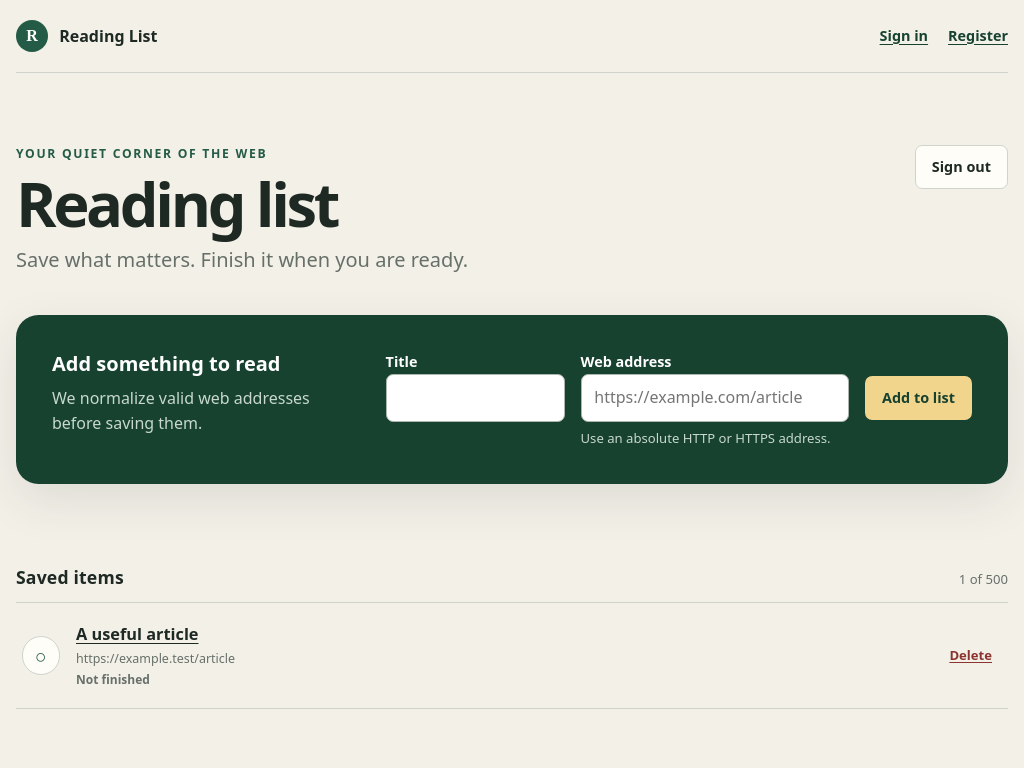
Scenario: reading-list mutations › gives the delete dialog safe initial focus, restores it on cancel, and focuses the list after success
Click the button with aria-label "Delete A useful article" at (971, 656), box [939,636,1002,675]
(page scrolled)
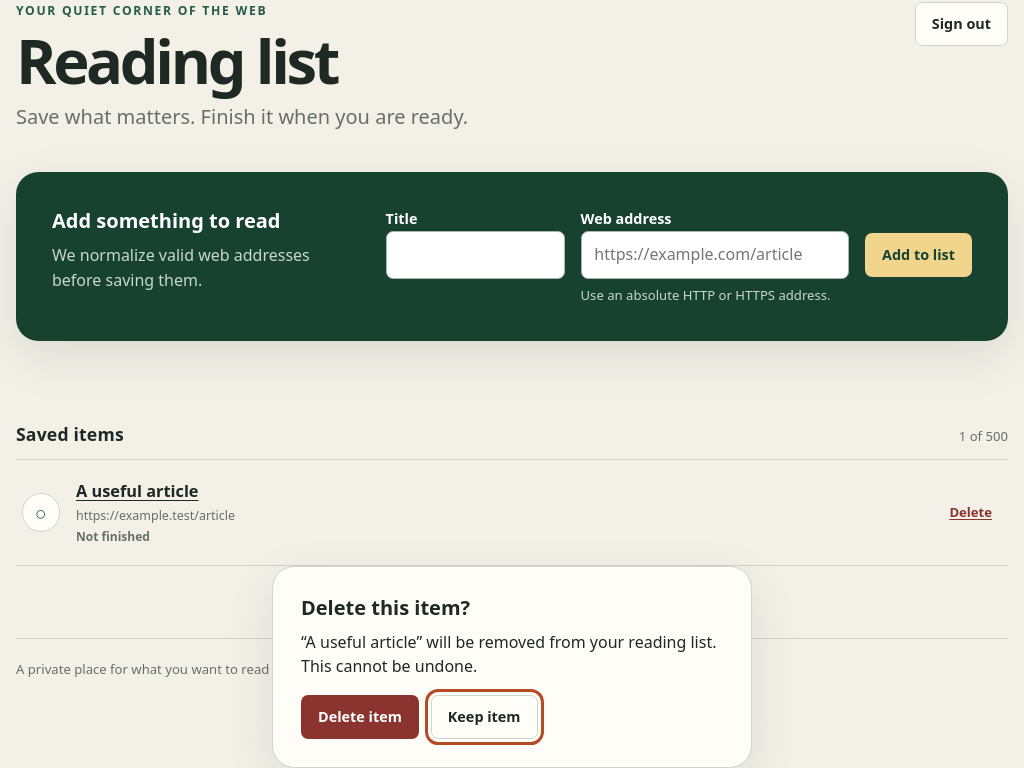
Now the heading "Delete this item?" is shown, box [301,594,470,621]
Click the button "Keep item" at (484, 717), box [431,695,538,739]
(page scrolled)
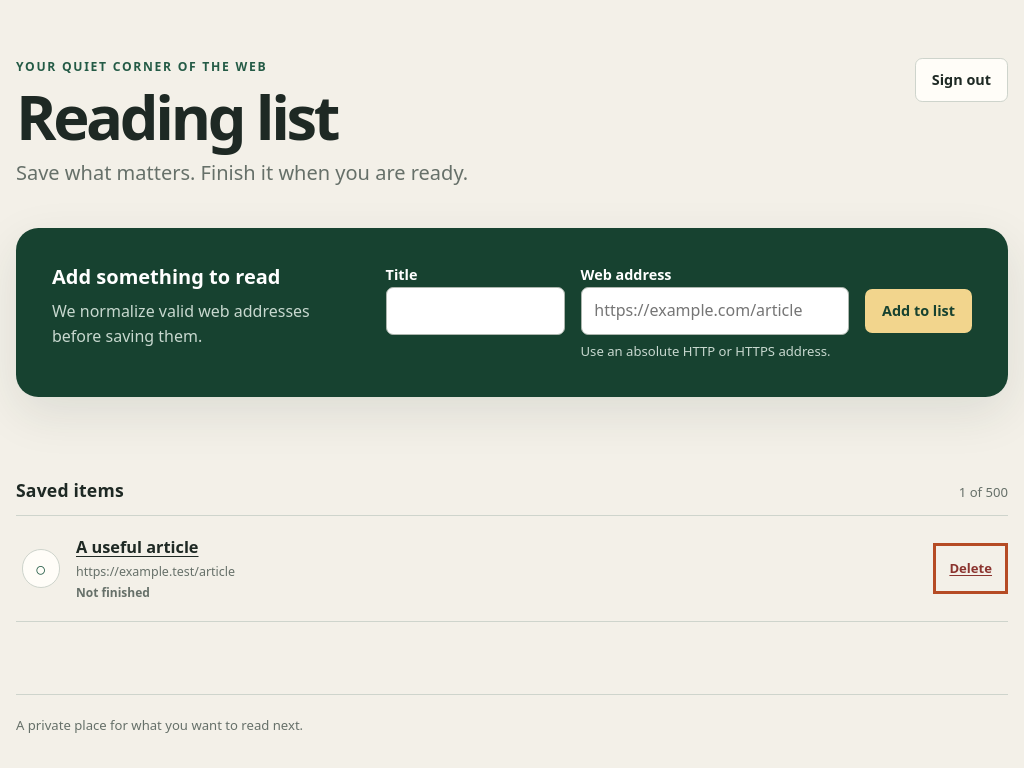
Click the button with aria-label "Delete A useful article" at (971, 568), box [939,549,1002,588]
(page scrolled)
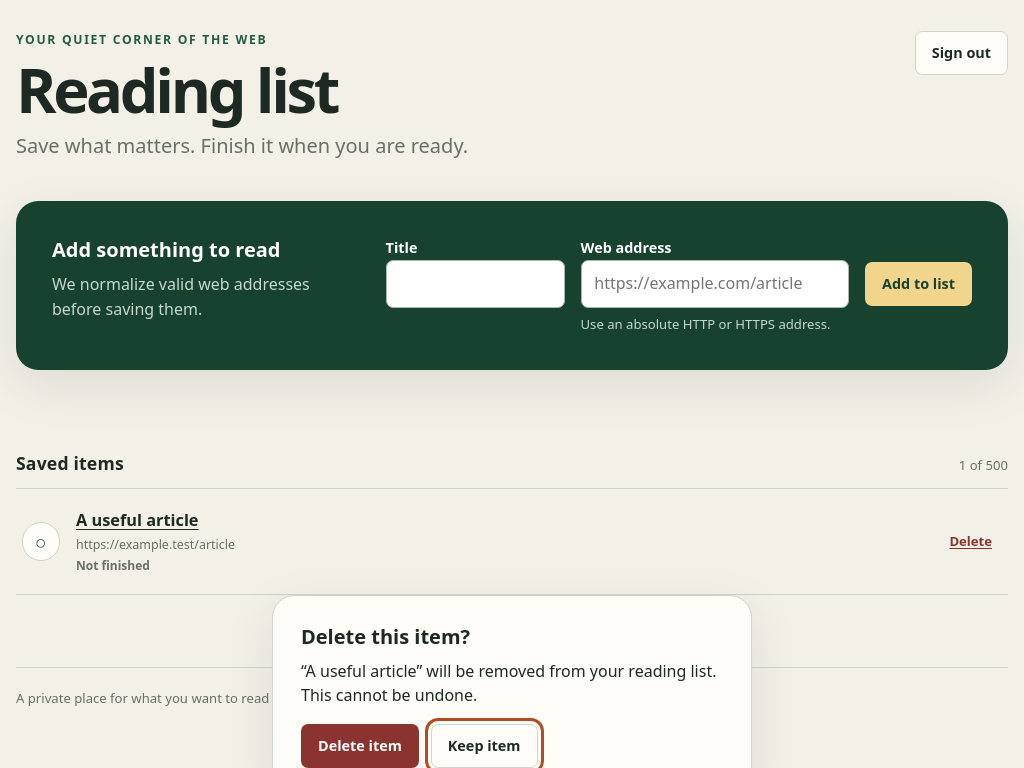
Click the button "Delete item" at (360, 746), box [301,724,419,767]
(page scrolled)
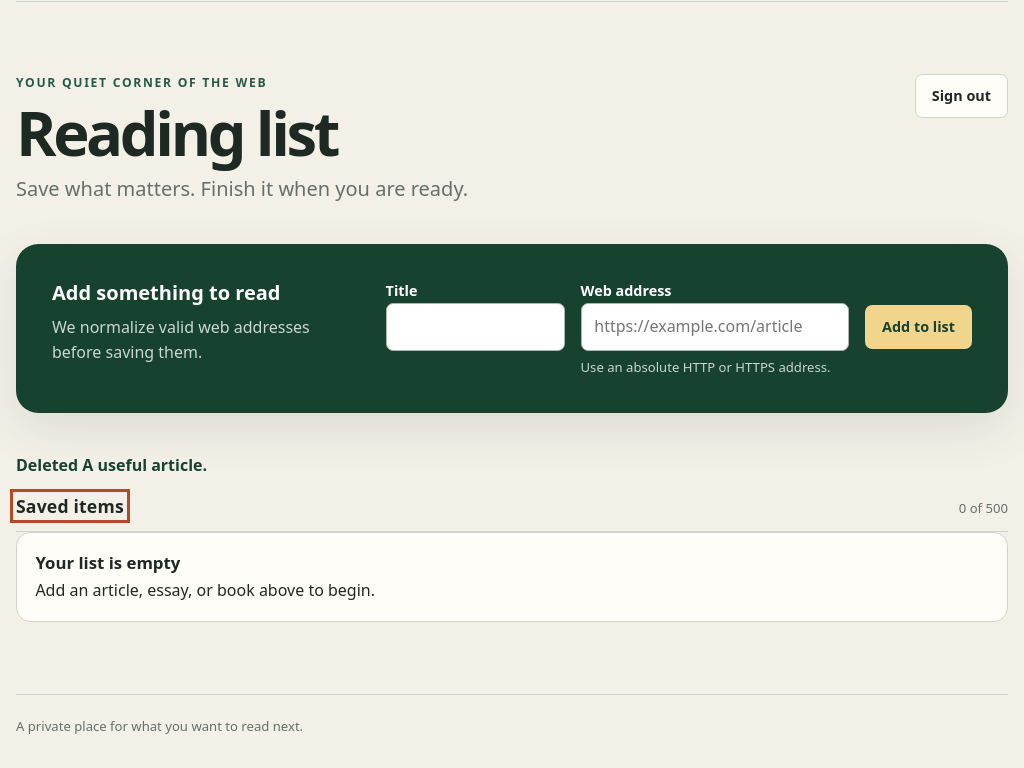
Now the text "Deleted A useful article." is shown, box [16,454,207,476]
Now the heading "Your list is empty" is shown, box [35,550,180,574]
